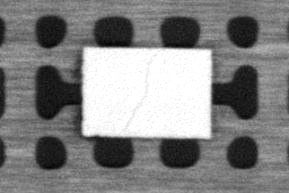DIE_CRACK: (122, 52, 157, 133)
